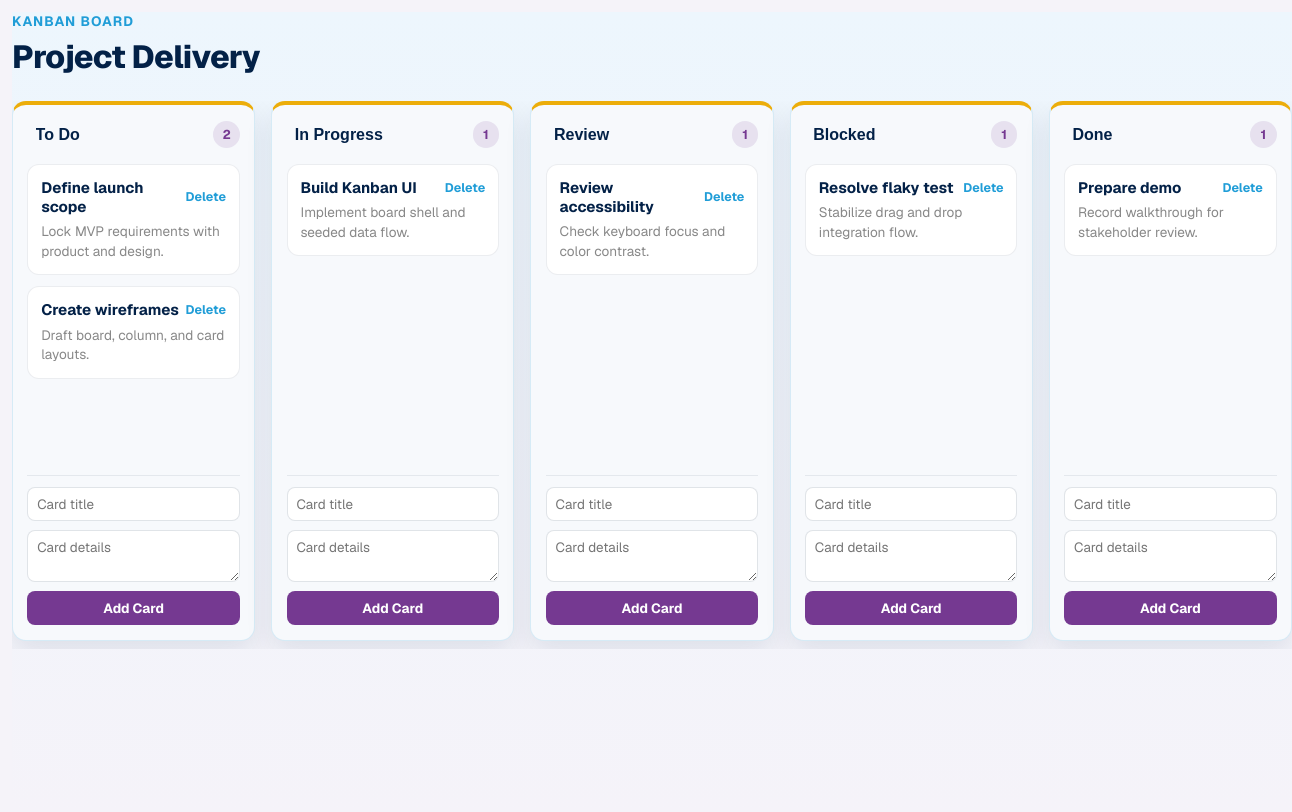
Scenario: Board › adds and deletes card
In the 1st field with placeholder "Card title": (134, 504) x1=27 y1=487 x2=240 y2=521, type "Unit card"
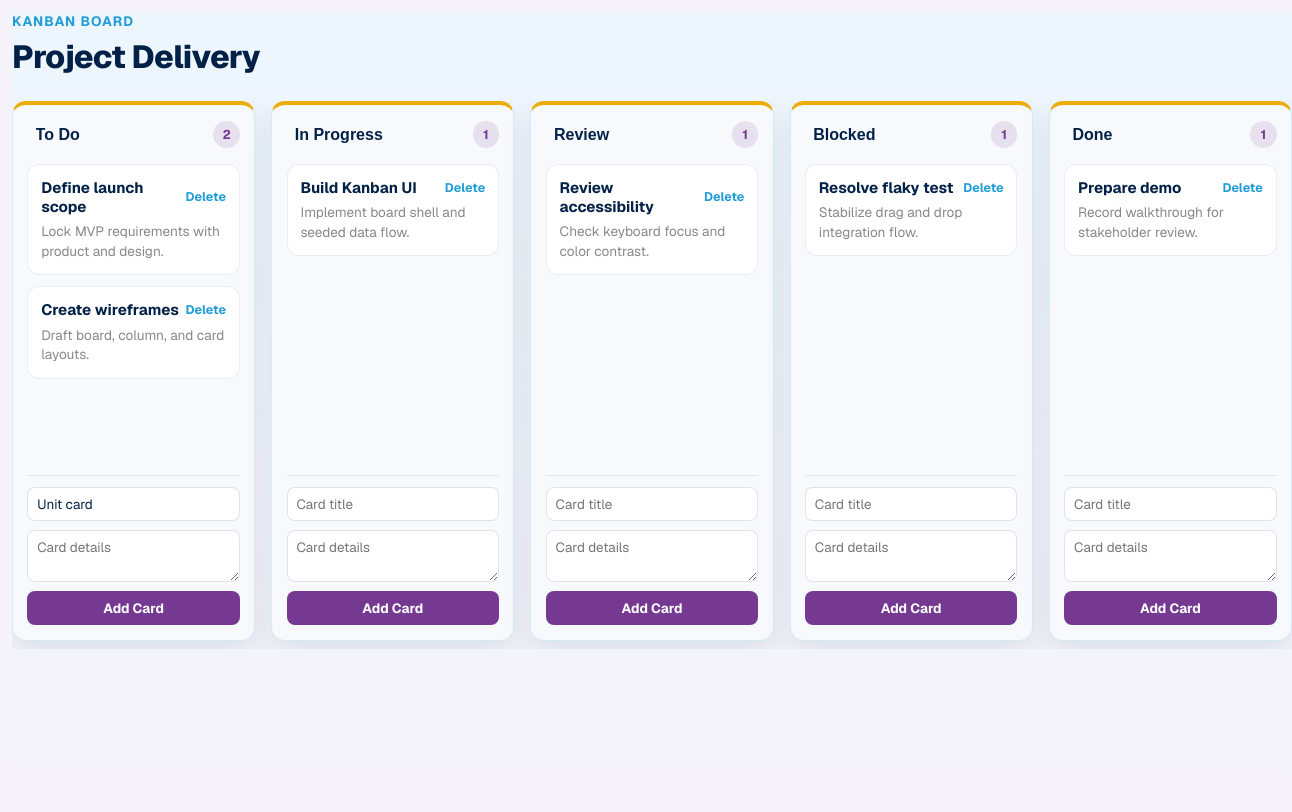
In the 1st text box with placeholder "Card details": (134, 556) x1=27 y1=530 x2=240 y2=582, type "Unit details"
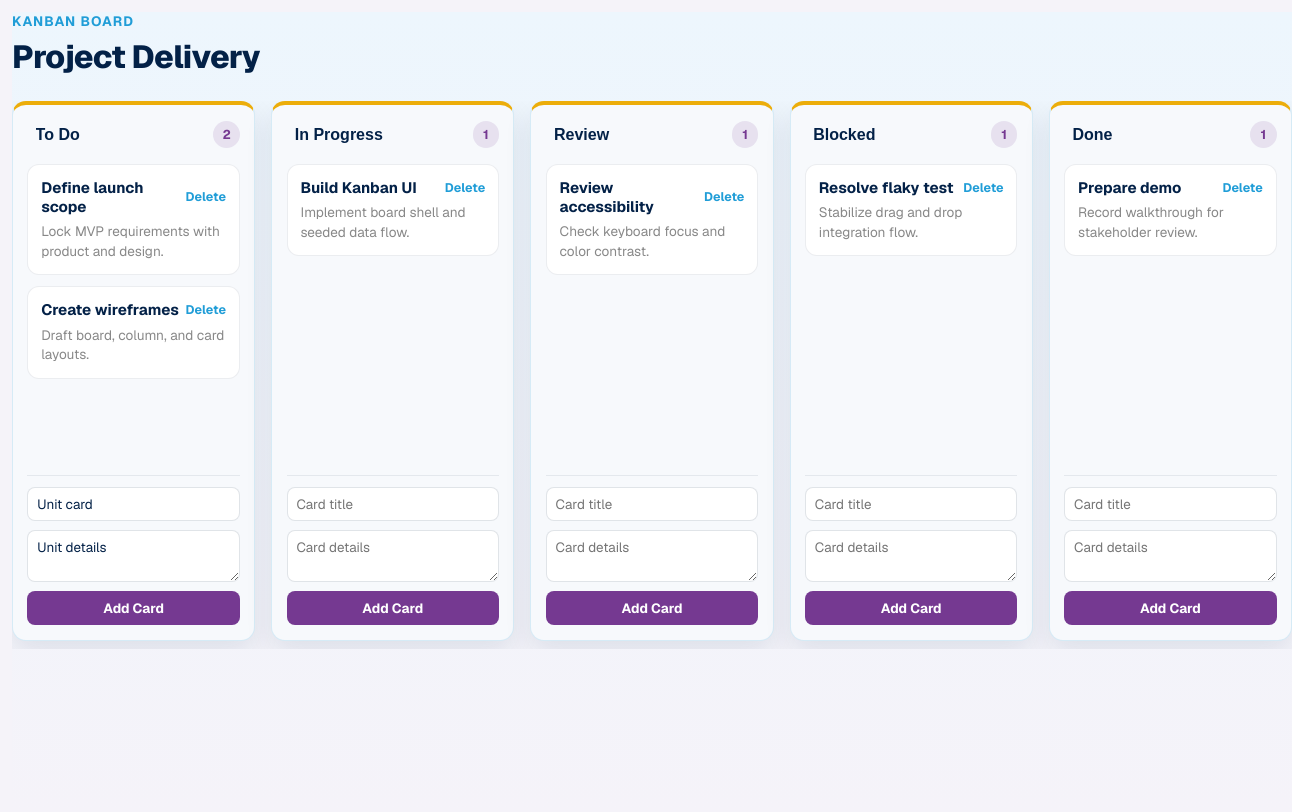
Click the 1st button "Add Card": (134, 608) x1=27 y1=591 x2=240 y2=625
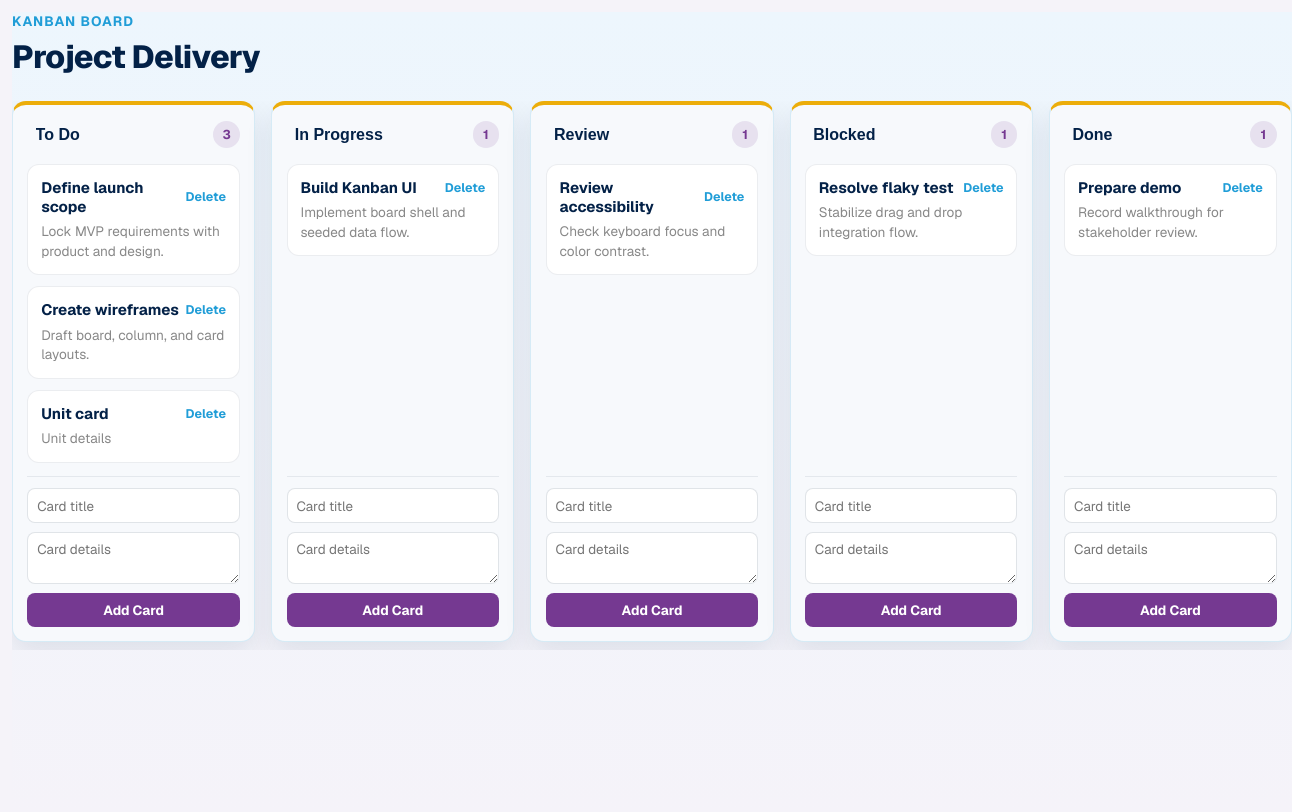
Result: the heading "Unit card" is shown at x1=41 y1=404 x2=109 y2=423
Click the button with aria-label "Delete Unit card": (206, 413) x1=186 y1=405 x2=226 y2=422
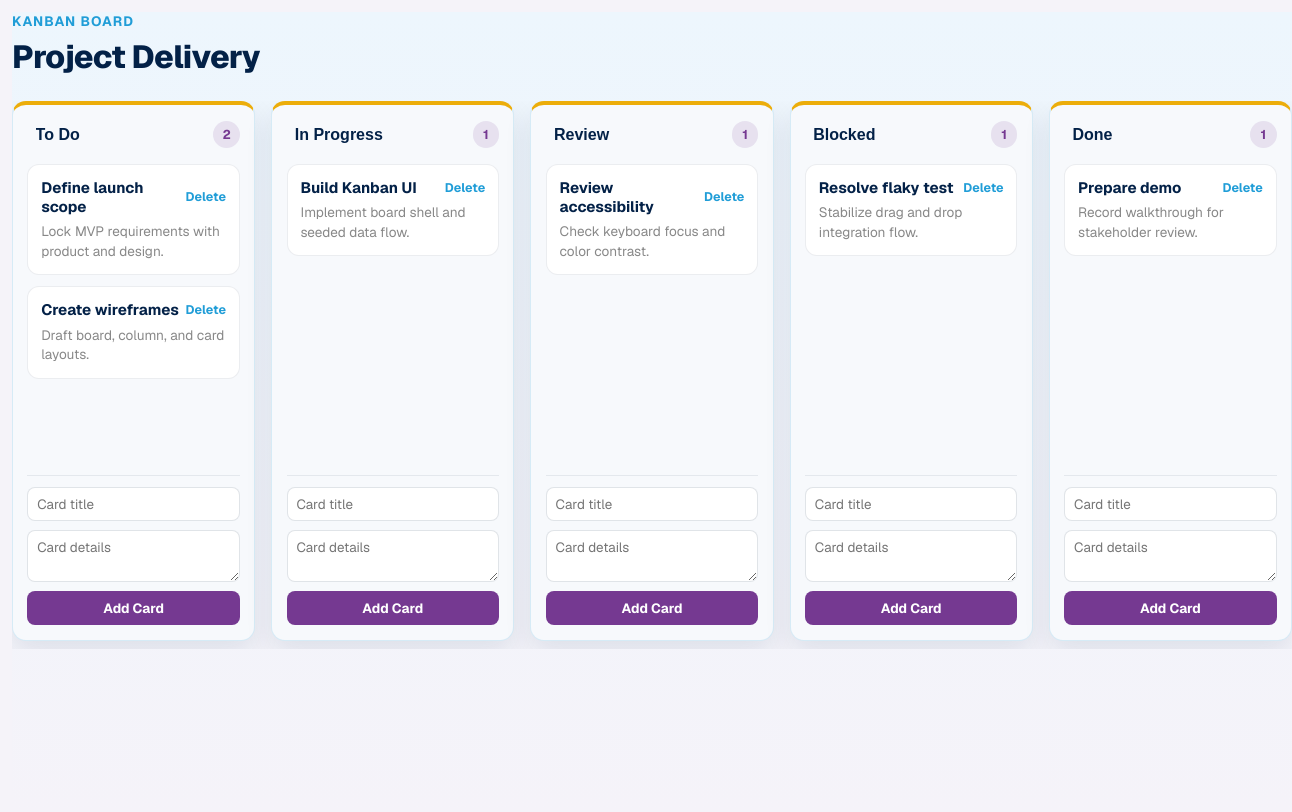
Result: the button "Unit card" is gone
